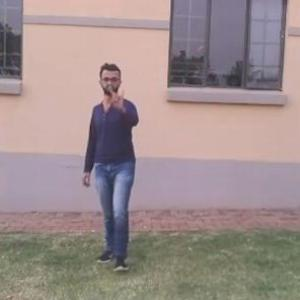takeoff-hand: (104, 82, 134, 115)
